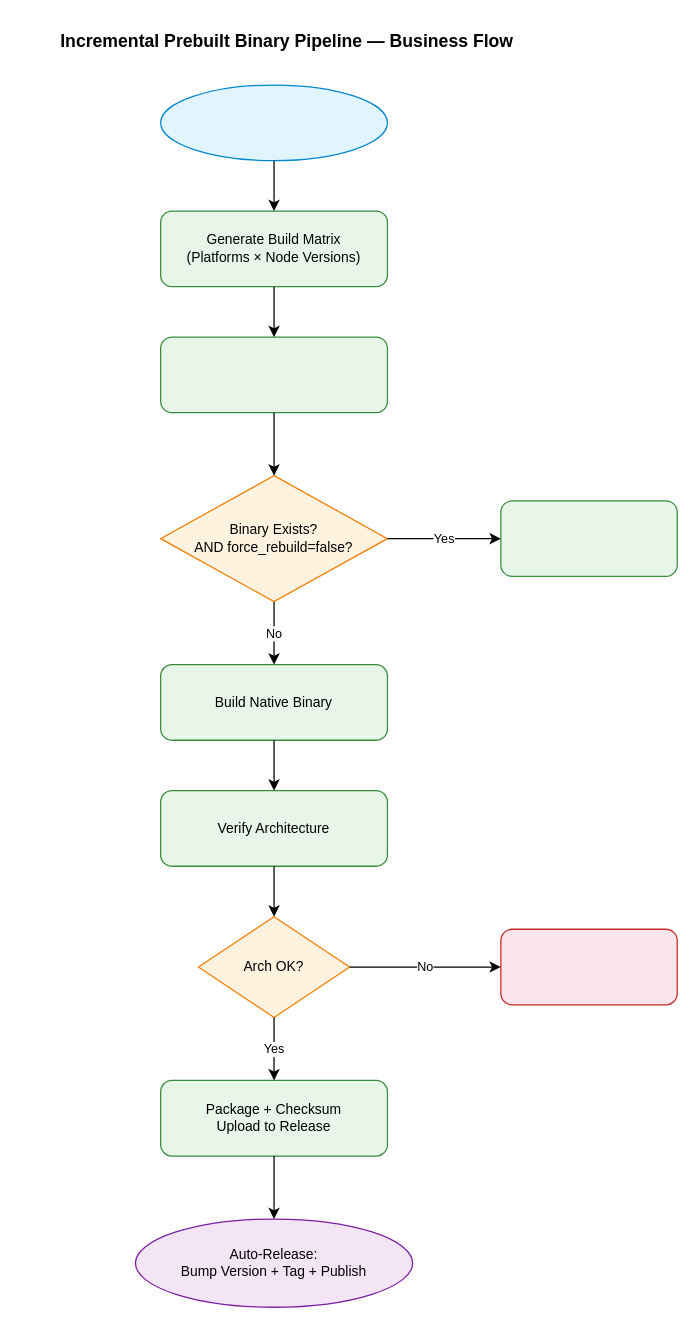
The diagram is 699 pixels wide and 1329 high, and some of its shapes have lost their labels. Each missing label, with the centre of its shape:
"Check GitHub Release for Existing Binary" goes at [273,374].
"FAIL (Exit 1, no upload)" goes at [588,966].
"SKIP Build (Log: skipped)" goes at [588,538].
"Trigger (Manual / Scheduled Scan)" goes at [273,122].
